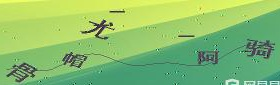chinese: (243, 35, 274, 64), (80, 19, 115, 44), (7, 61, 38, 85), (57, 49, 86, 69), (199, 47, 220, 66)
